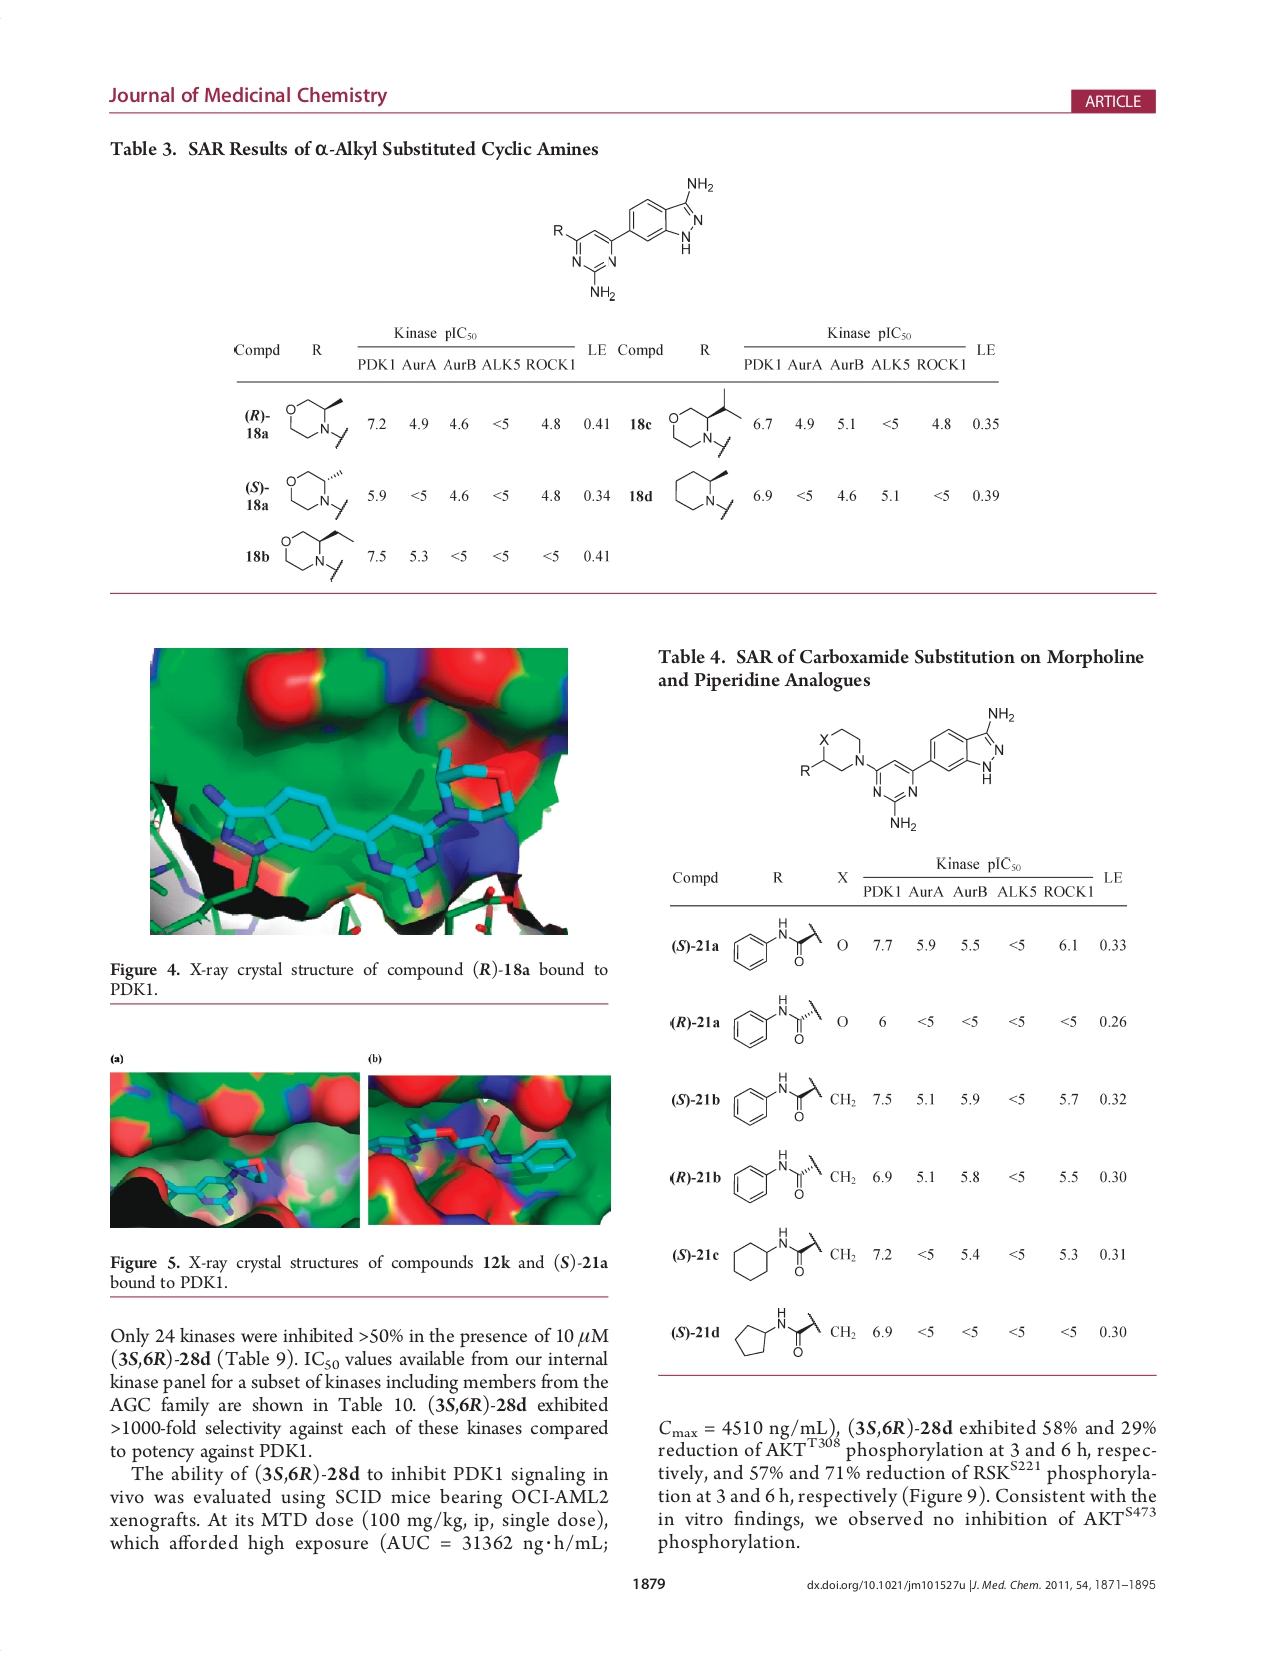exist_molecular: (799, 707, 1019, 833), (548, 176, 715, 305), (723, 911, 824, 975), (733, 1142, 822, 1208), (731, 1067, 823, 1129), (733, 1302, 824, 1364), (730, 1223, 824, 1283), (730, 992, 824, 1051), (668, 387, 741, 457), (274, 527, 356, 584), (281, 391, 356, 449), (285, 467, 350, 521), (672, 469, 735, 523)
